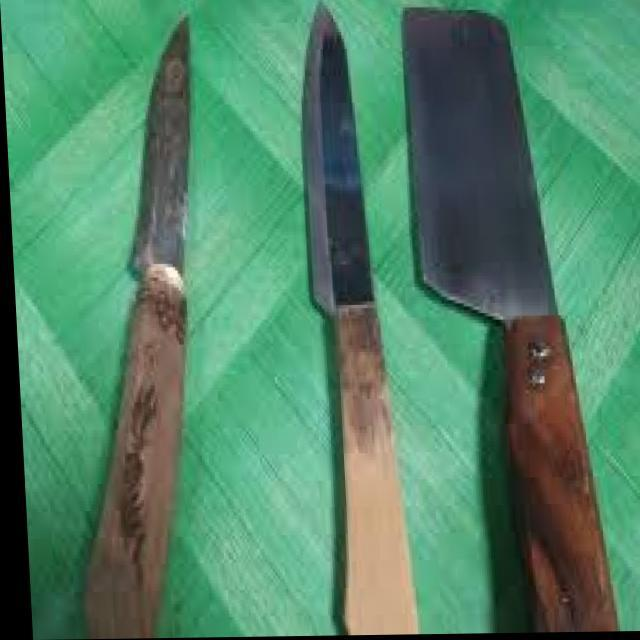knife: (402, 0, 619, 638), (302, 3, 421, 636), (81, 15, 193, 640)
